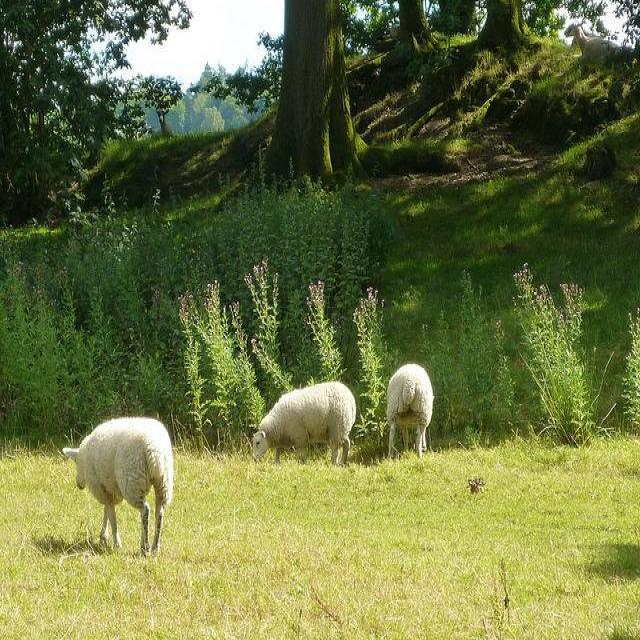Sheep: (63, 415, 174, 556), (252, 382, 356, 467), (383, 361, 432, 460)
